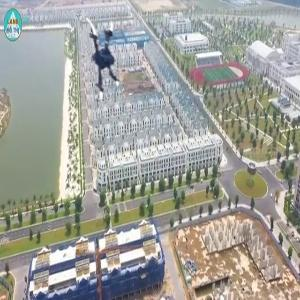drone: (54, 16, 138, 100)
